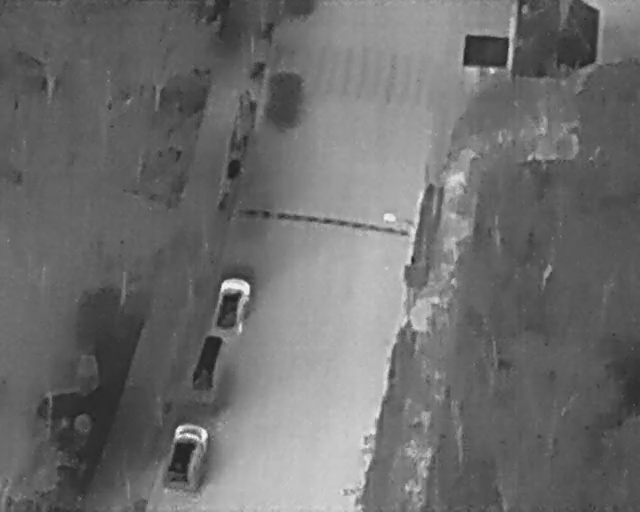Car: (157, 419, 213, 496), (208, 271, 255, 338), (186, 330, 230, 397)
